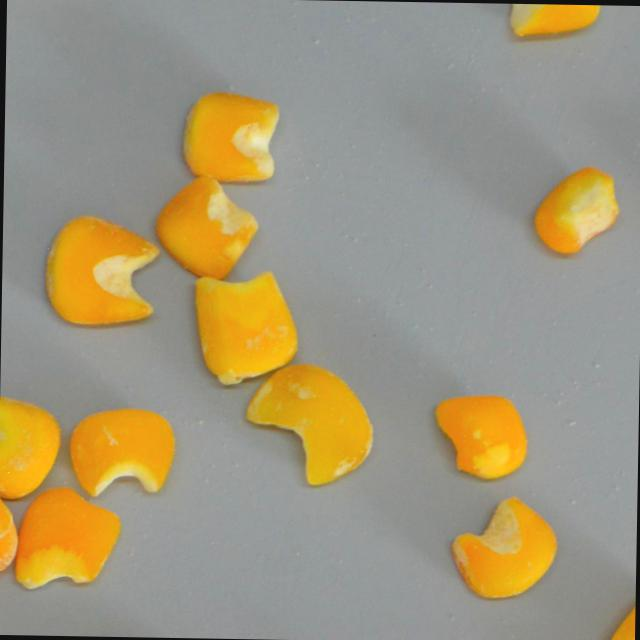no_canjicado: (44, 213, 159, 326), (13, 486, 120, 589), (157, 175, 260, 278), (68, 407, 174, 497), (181, 92, 279, 179), (532, 164, 619, 255), (434, 395, 528, 478), (495, 3, 600, 40), (603, 587, 635, 640)
pelicula: (242, 364, 375, 485), (191, 267, 297, 383), (450, 495, 559, 600), (0, 393, 63, 501), (0, 474, 18, 585)
